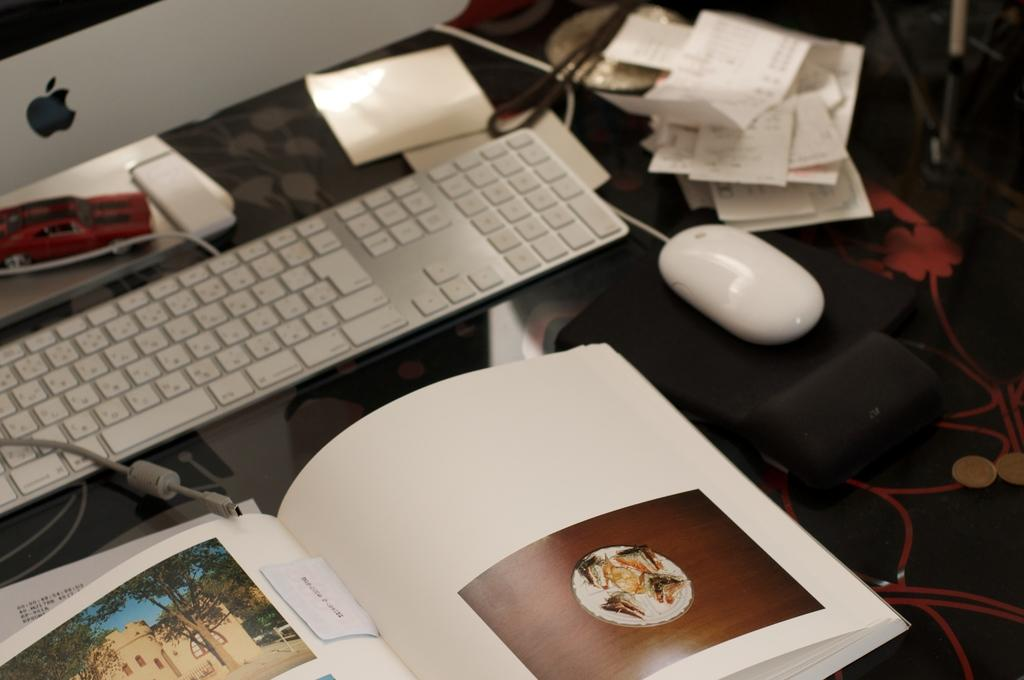Computer-mouse: (655, 217, 824, 337)
